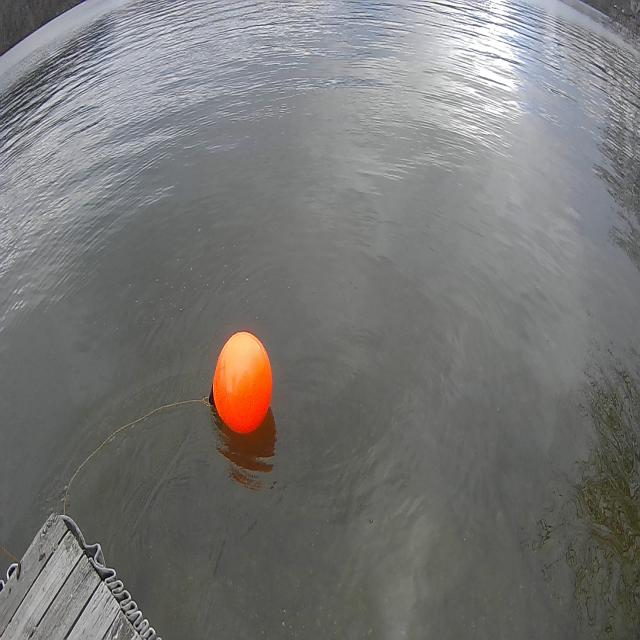Buoy: (209, 328, 275, 441)
